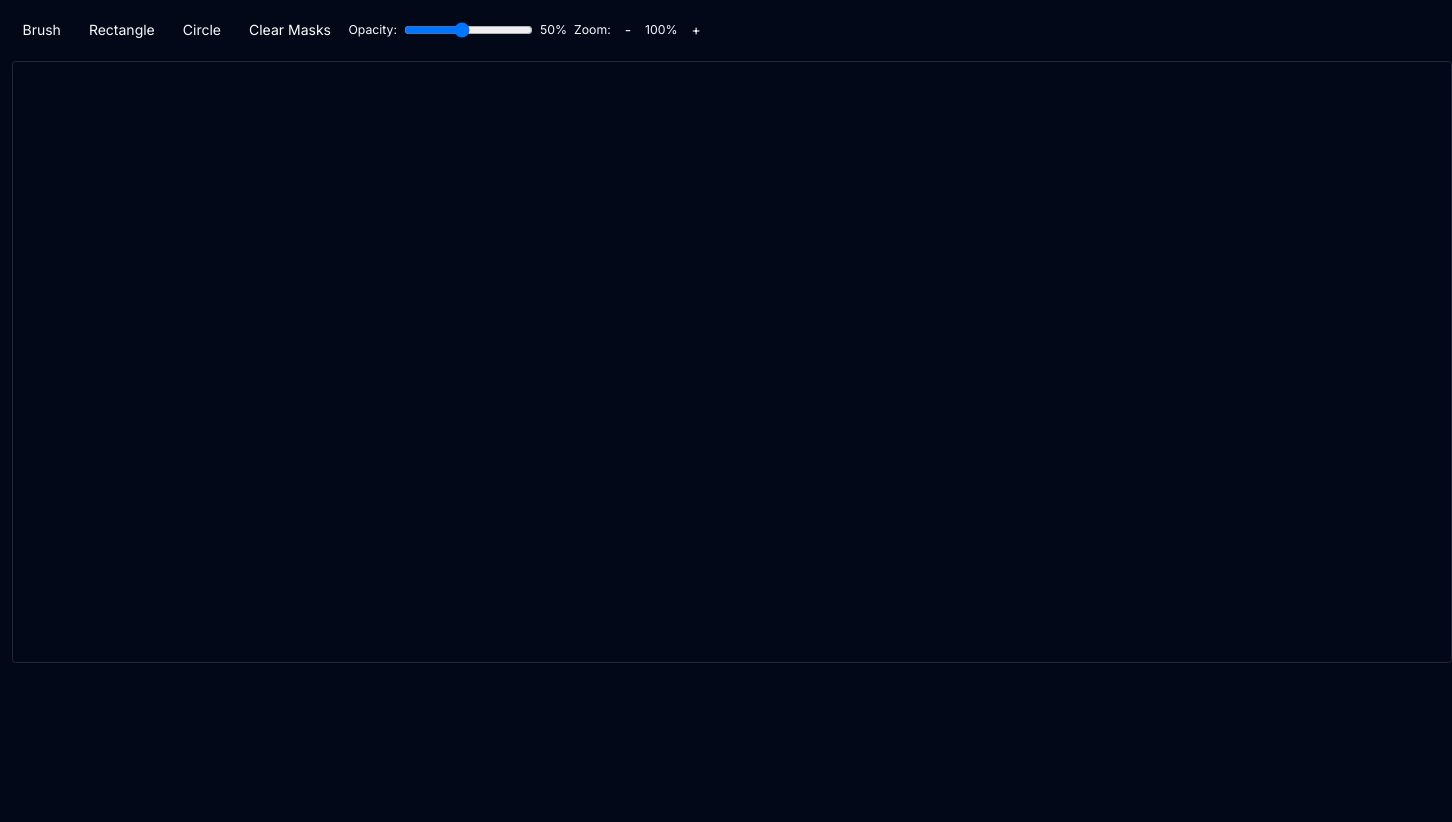
Scenario: CanvasInterface › Zoom and Pan Controls › should update zoom level when zoom buttons are clicked
Expected: the text "100%" is shown, x1=645 y1=21 x2=678 y2=38
 Zoom in
Click the button "+".
click(696, 30)  # box x1=685 y1=16 x2=708 y2=44
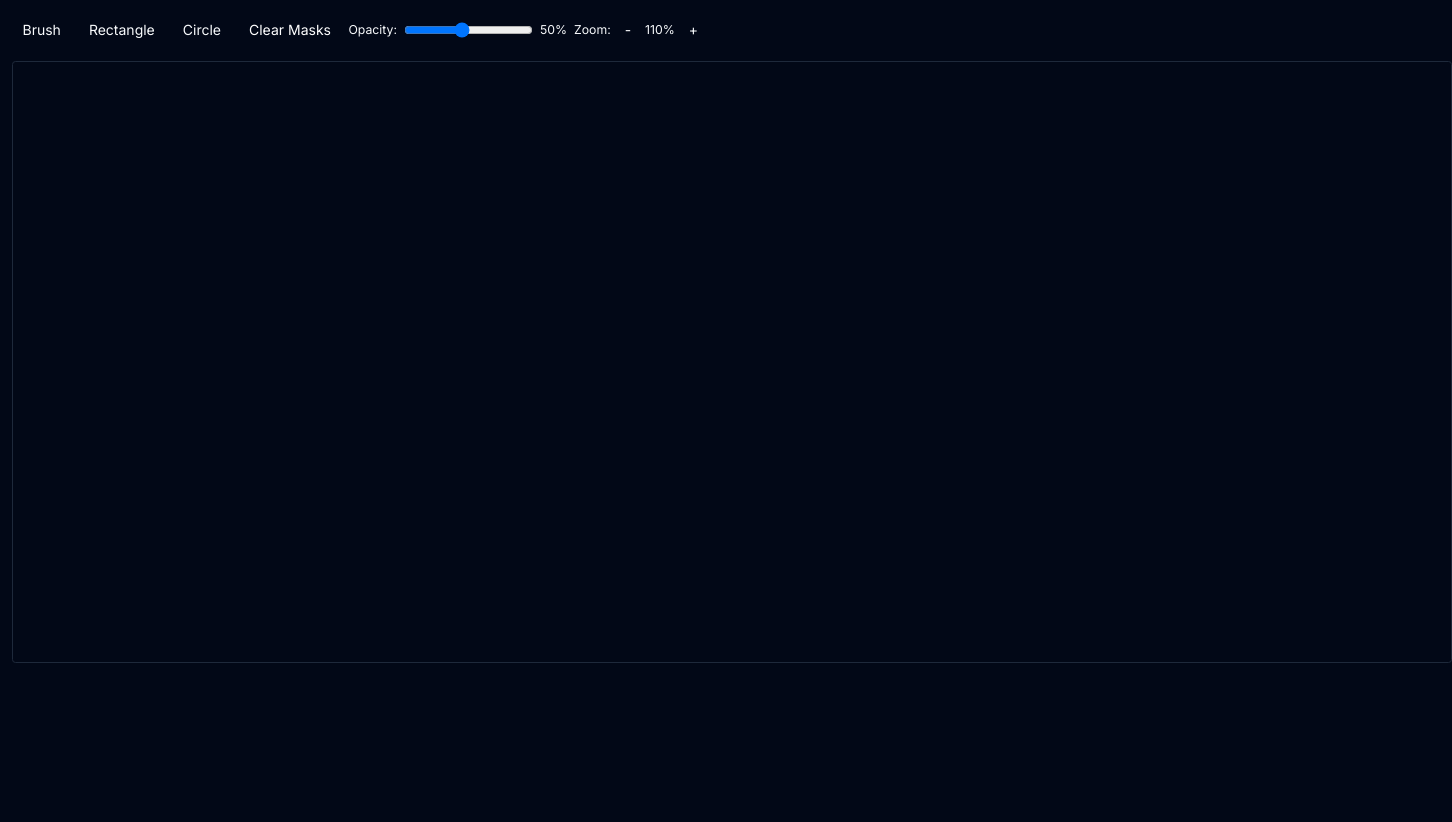
Now the text "110%" is shown, box x1=645 y1=21 x2=675 y2=38
Zoom out
Click the button "-".
click(628, 30)  # box x1=618 y1=16 x2=638 y2=44
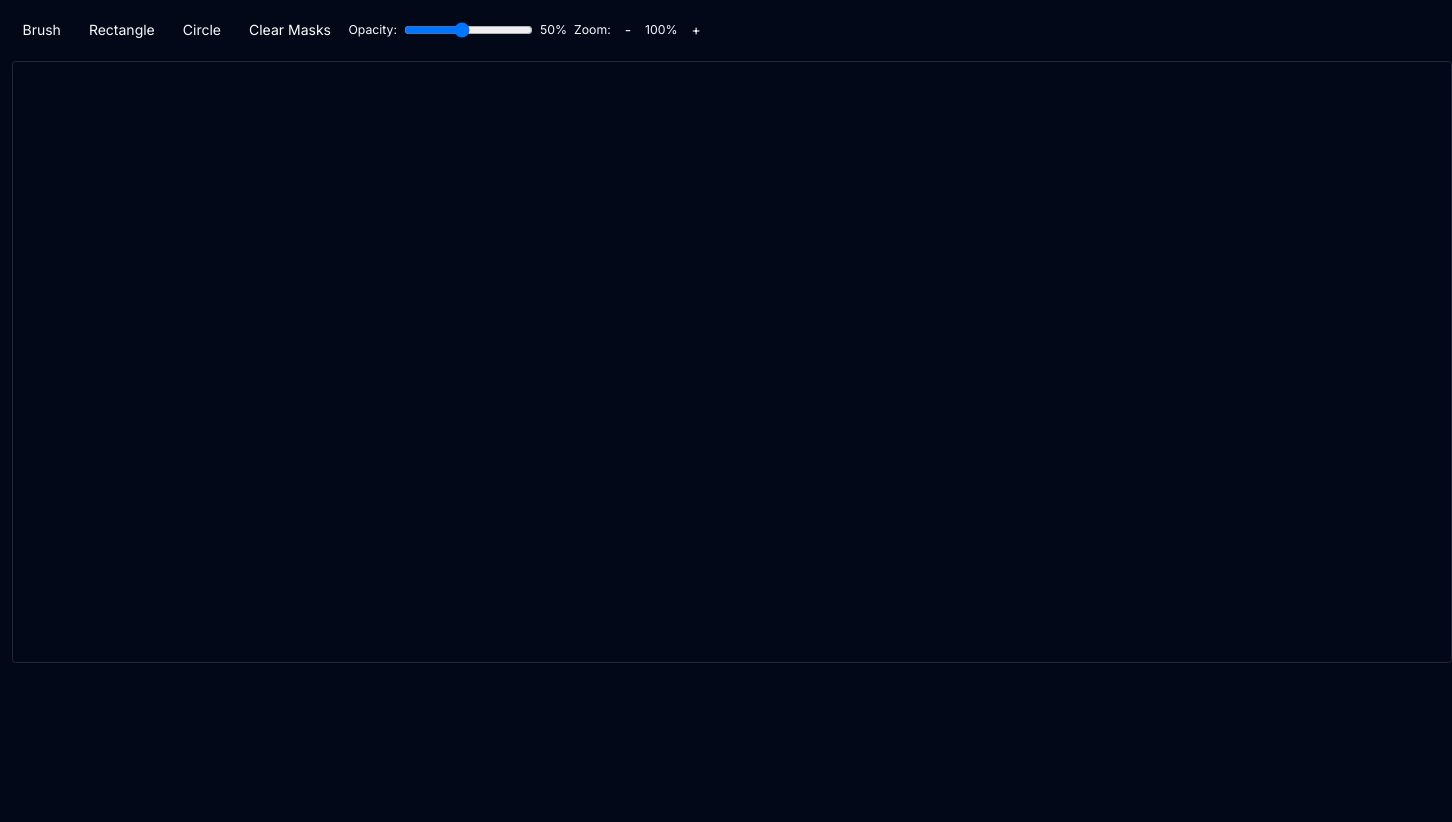
Click the button "-".
click(628, 30)  # box x1=618 y1=16 x2=638 y2=44
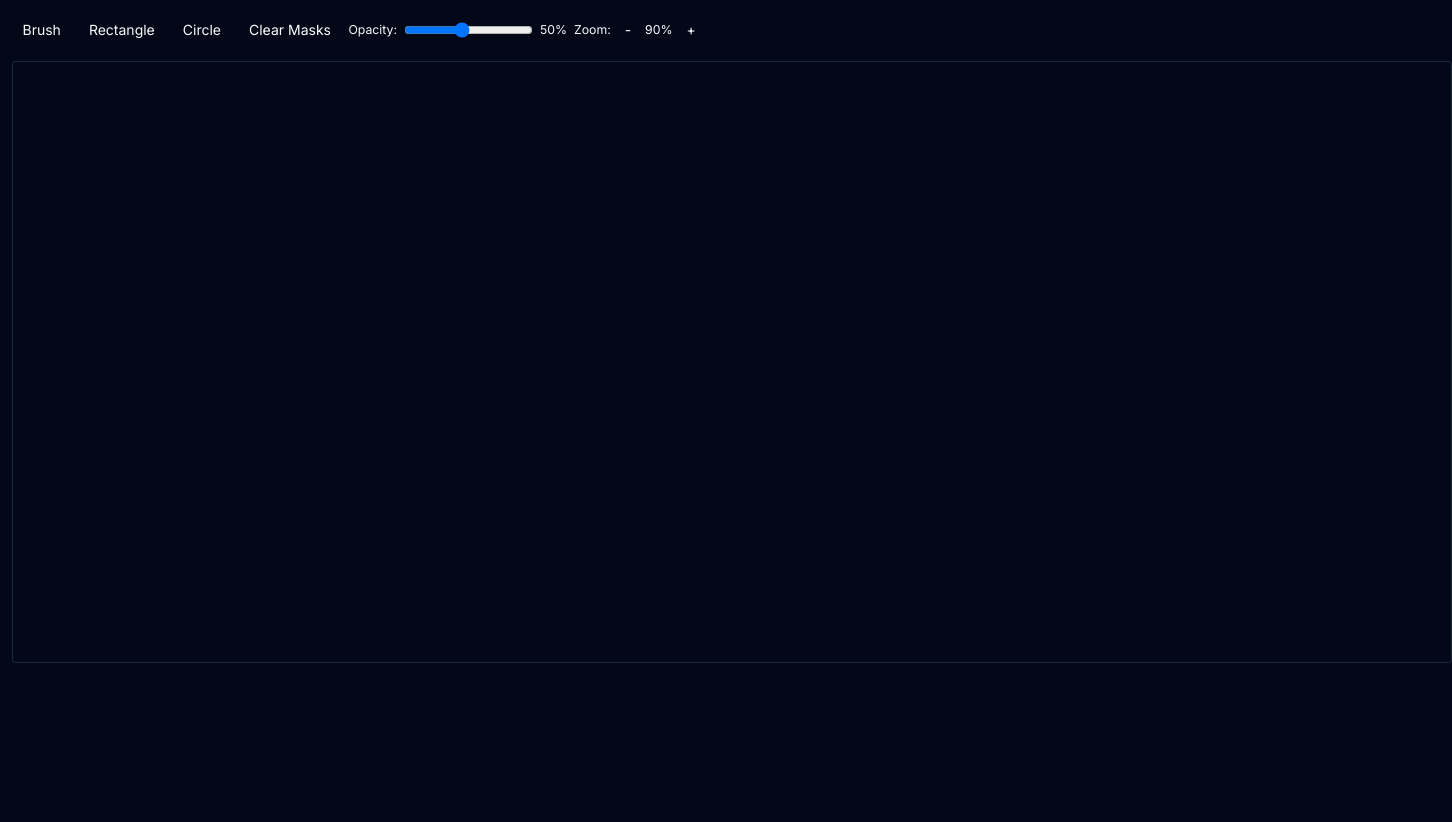
Now the text "90%" is shown, box x1=645 y1=21 x2=672 y2=38
